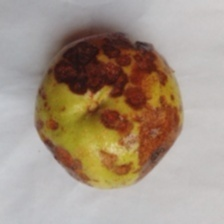guava: (3, 0, 179, 184)
